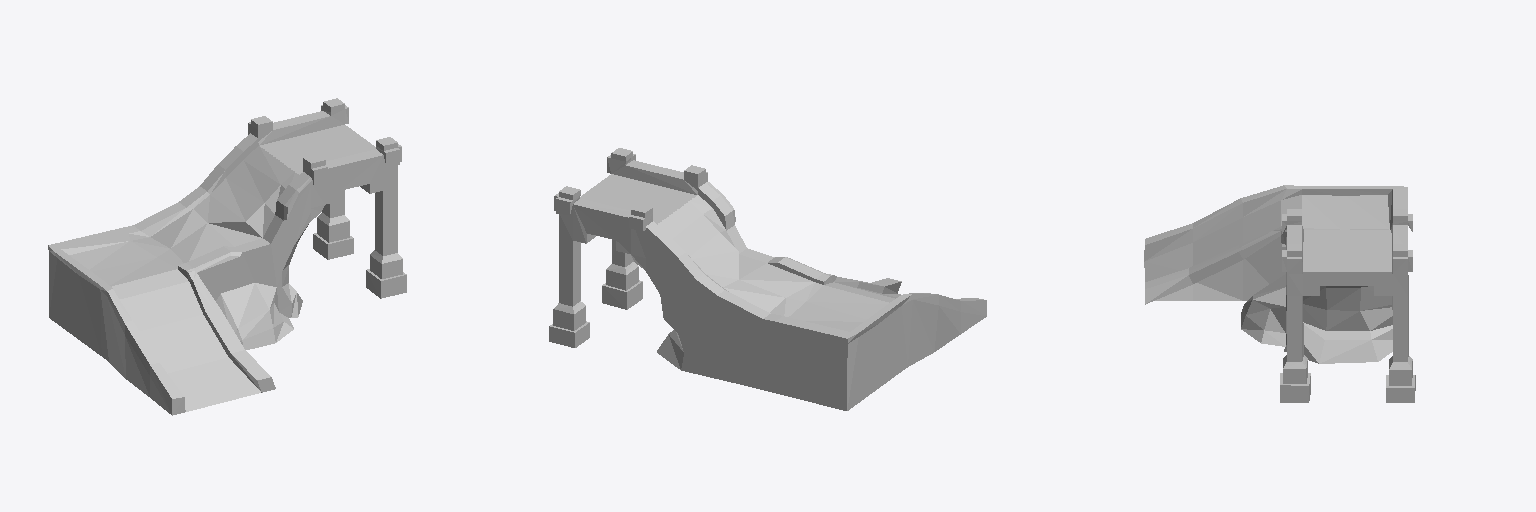
File: ruinStairs_01.obj
The picture shows the model from 3 angles: view 1: azimuth 30°, elevation 25°; view 2: azimuth 150°, elevation 25°; view 3: azimuth 270°, elevation 25°; orthographic projection.
Parts seen in each view (by area): view 1: staris, platform; view 2: staris, platform; view 3: staris, platform.
Boxes of the visible parts, x1=… form: staris: x1=48, y1=133, x2=312, y2=415; platform: x1=248, y1=98, x2=406, y2=298; staris: x1=645, y1=182, x2=986, y2=410; platform: x1=549, y1=148, x2=707, y2=347; staris: x1=1144, y1=185, x2=1407, y2=363; platform: x1=1280, y1=209, x2=1415, y2=402.
Bounding box in the file's own units: 22.07 × 10.51 × 17.09.